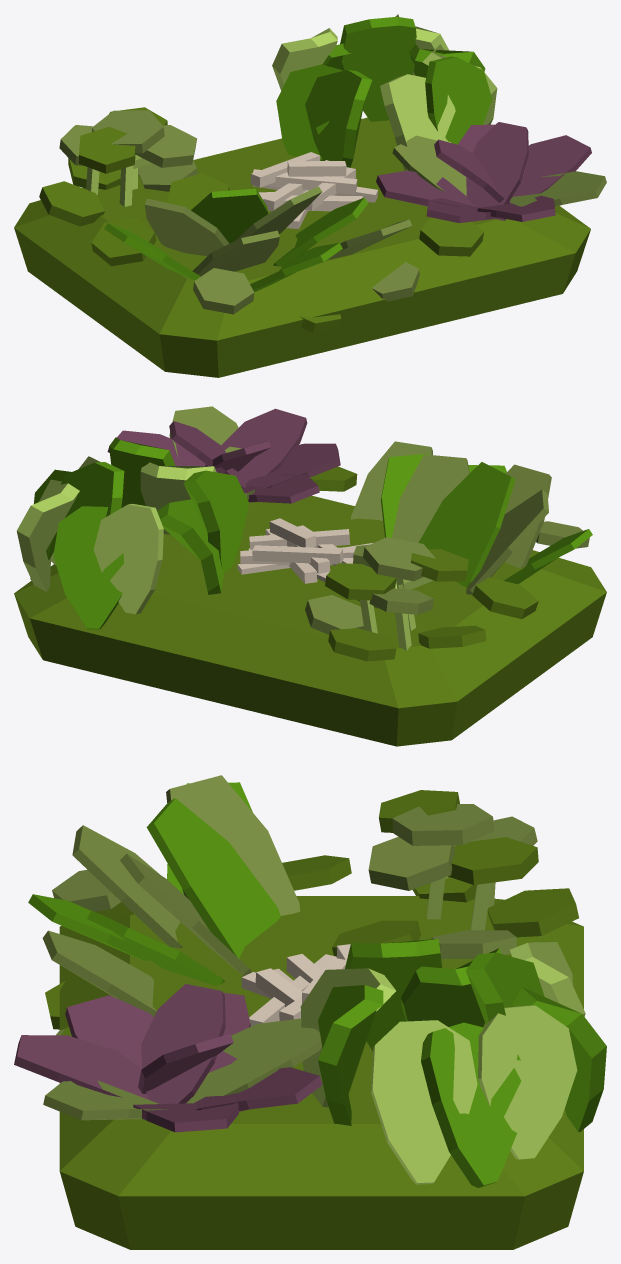
File: SM_Cook_HerbPile_01.glb
The picture shows the model from 3 angles, top to bottom: view 1: azimuth 30°, elevation 25°; view 2: azimuth 150°, elevation 25°; view 3: azimuth 270°, elevation 25°; orthographic projection. The views are drawn at different scales.
Visible parts, largest first — view 1: SM_Cook_HerbPile_01; view 2: SM_Cook_HerbPile_01; view 3: SM_Cook_HerbPile_01.
Part boxes in pixels (bbox=[...]): SM_Cook_HerbPile_01: bbox=[14, 14, 606, 377]; SM_Cook_HerbPile_01: bbox=[14, 406, 606, 746]; SM_Cook_HerbPile_01: bbox=[14, 775, 606, 1249].
Size of the model in its own units: 0.3835 by 0.138 by 0.3031.
Materials: 1 (1 with a texture image).
